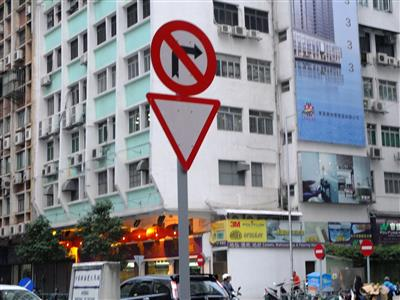noRightTurn: (150, 17, 217, 96)
stop: (359, 238, 374, 256), (313, 243, 325, 259), (195, 252, 205, 267)
yield: (143, 89, 221, 171)
